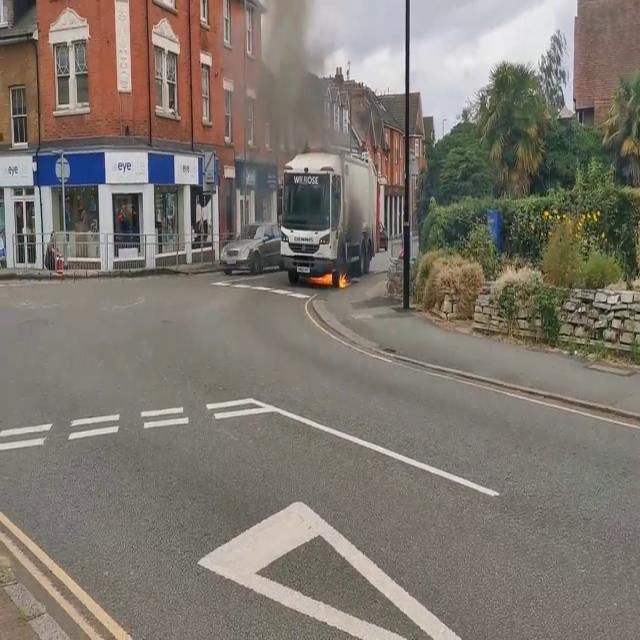Fire: (319, 268, 347, 296)
Smoke: (244, 1, 352, 220)
